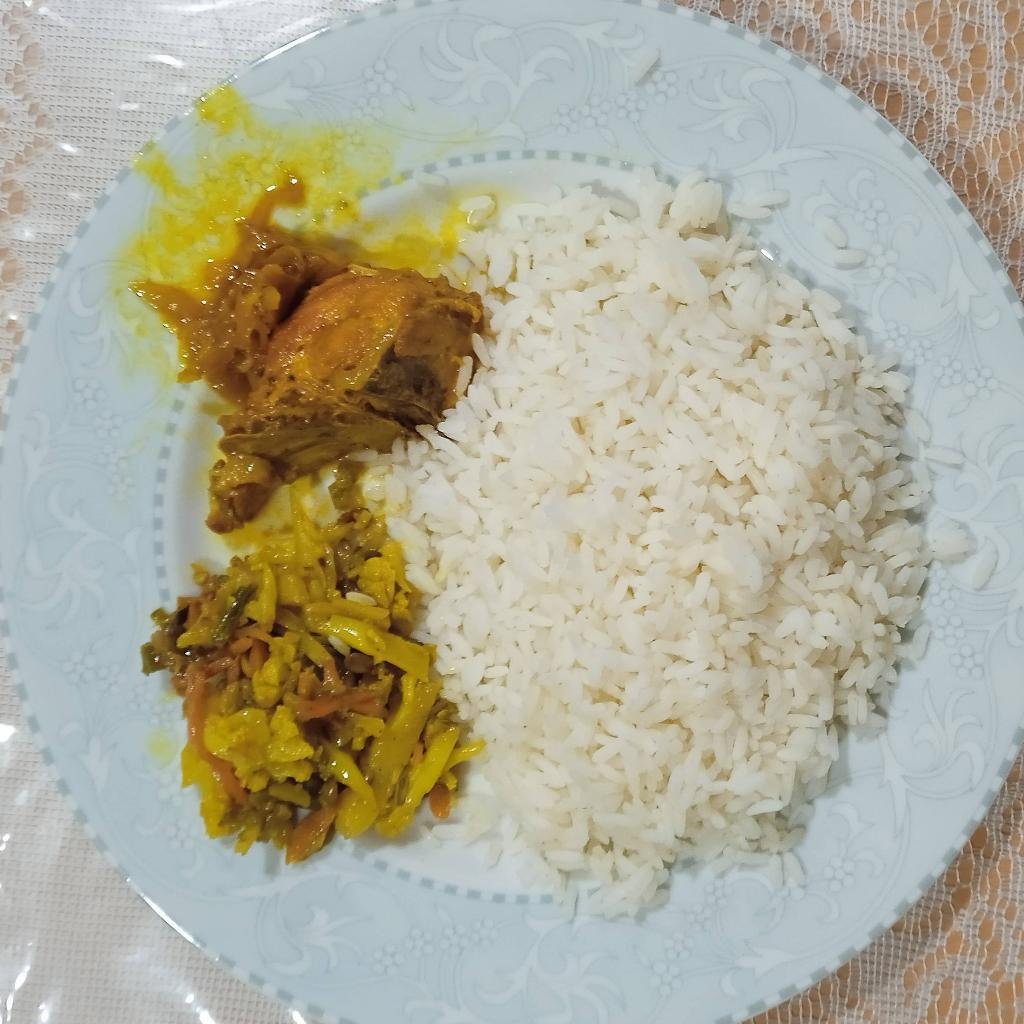chicken: (196, 233, 485, 529)
rice: (398, 177, 936, 911)
vaji: (160, 471, 460, 858)
